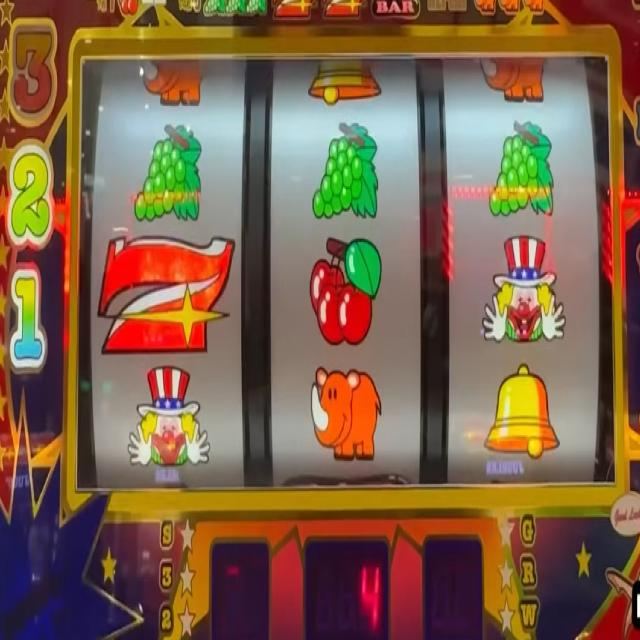bar: (369, 0, 422, 21)
bell: (482, 361, 560, 460), (306, 63, 382, 107)
cherry: (308, 233, 382, 348), (116, 0, 139, 16)
clown: (481, 230, 567, 346), (127, 364, 211, 470)
display: (74, 52, 616, 490)
elephant: (310, 364, 382, 459), (140, 55, 205, 108), (479, 58, 546, 106), (471, 0, 496, 14), (498, 0, 520, 15), (522, 0, 544, 13)
grape: (133, 120, 202, 224), (486, 119, 555, 219), (312, 120, 379, 222), (203, 0, 224, 18), (226, 0, 246, 17), (248, 0, 266, 17)
z: (96, 234, 236, 358), (271, 0, 317, 22), (321, 0, 368, 20)
